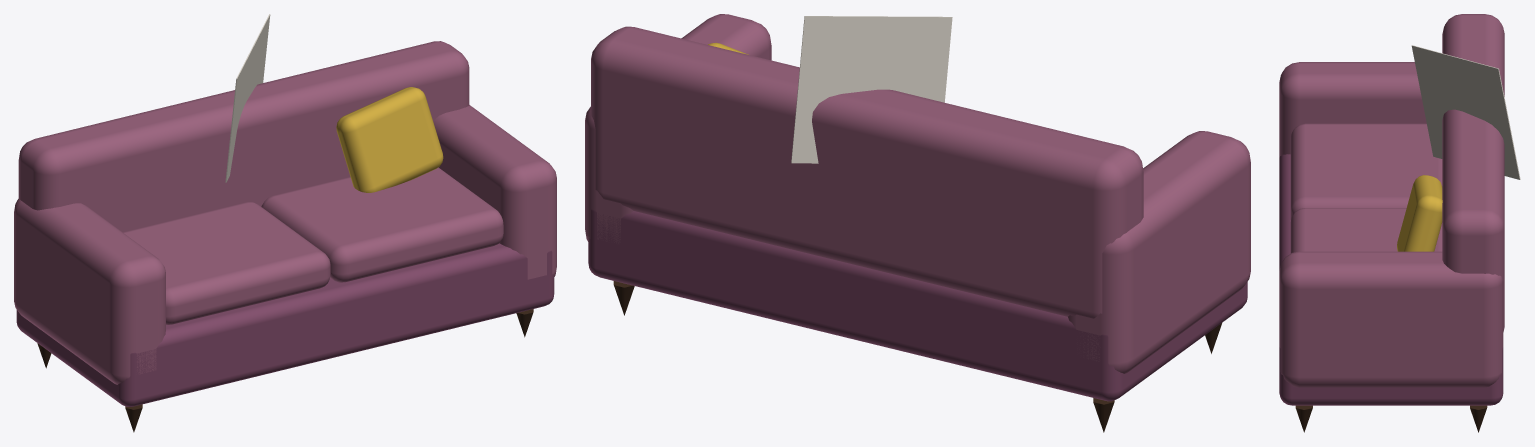
Rendered from sofa.glb.
3 renders of one model, left to right at view 1: azimuth 30°, elevation 25°; view 2: azimuth 150°, elevation 25°; view 3: azimuth 270°, elevation 25°, orthographic. The views are drawn at different scales.
Parts seen in each view (by area): view 1: main; view 2: main; view 3: main.
Boxes of the visible parts, <box> form: main: <box>14,14,556,432</box>; main: <box>585,14,1250,432</box>; main: <box>1279,14,1520,432</box>.
Size of the model in its own units: 2.05 by 1.28 by 0.9689.
